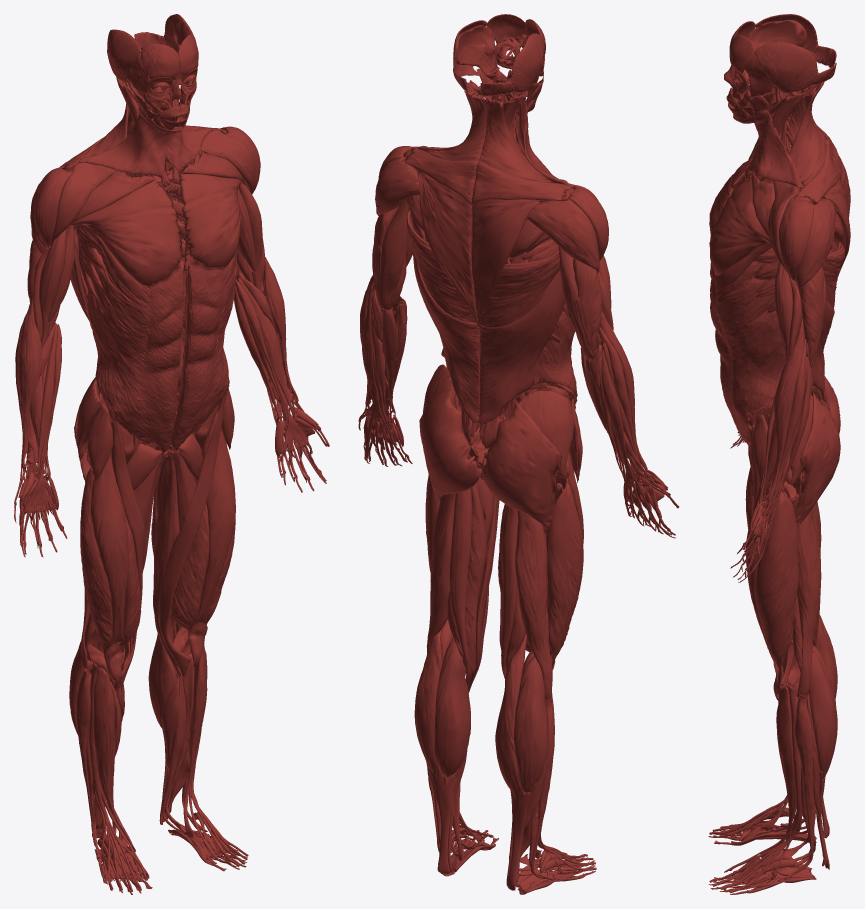
3 views of the same model, side by side, from view 1: azimuth 30°, elevation 25°; view 2: azimuth 150°, elevation 25°; view 3: azimuth 270°, elevation 25° (orthographic).
Parts seen in each view (by area): view 1: Muscle_External_Abdominal_Oblique_Right, Muscle_Sternocostal_Head_Of_Pectoralis_Major_Right, Muscle_External_Abdominal_Oblique_Left, Muscle_Sternocostal_Head_Of_Pectoralis_Major_Left, Muscle_Rectus_Femoris_Right, Muscle_Rectus_Femoris_Left, Muscle_Sartorius_Left, Muscle_Vastus_Lateralis_Right, Muscle_Platysma_Right, Muscle_Vastus_Medialis_Left, Muscle_Gracilis_Left, Muscle_Tibialis_Anterior_Right (+44 smaller); view 2: Muscle_Latissimus_Dorsi_Right, Muscle_Gluteus_Maximus_Right, Muscle_Latissimus_Dorsi_Left, Muscle_Vastus_Lateralis_Right, Muscle_Descending_Part_Of_Trapezius_Left, Muscle_Long_Head_Of_Biceps_Femoris_Right, Muscle_Gluteus_Maximus_Left, Muscle_Descending_Part_Of_Trapezius_Right, Muscle_Medial_Head_Of_Gastrocnemius_Left, Muscle_Lateral_Head_Of_Gastrocnemius_Right, Muscle_Scapular_Spinal_Part_Of_Deltoid_Right, Muscle_Semitendinosus_Left (+34 smaller); view 3: Muscle_External_Abdominal_Oblique_Left, Muscle_Vastus_Lateralis_Left, Muscle_Sternocostal_Head_Of_Pectoralis_Major_Left, Muscle_Gluteus_Maximus_Left, Muscle_Long_Head_Of_Biceps_Femoris_Left, Muscle_Temporoparietalis_Left, Muscle_Lateral_Head_Of_Gastrocnemius_Left, Muscle_Platysma_Left, Muscle_Brachioradialis_Left, Muscle_Acromial_Part_Of_Deltoid_Left, Muscle_Scapular_Spinal_Part_Of_Deltoid_Left, Muscle_Ascending_Part_Of_Trapezius_Left (+44 smaller).
Boxes of the visible parts, x1,y1,x2,y2 form: Muscle_External_Abdominal_Oblique_Right: (87, 251, 184, 443); Muscle_Sternocostal_Head_Of_Pectoralis_Major_Right: (70, 180, 182, 285); Muscle_External_Abdominal_Oblique_Left: (177, 258, 236, 440); Muscle_Sternocostal_Head_Of_Pectoralis_Major_Left: (179, 173, 241, 268); Muscle_Rectus_Femoris_Right: (90, 450, 128, 686); Muscle_Rectus_Femoris_Left: (188, 410, 235, 667); Muscle_Sartorius_Left: (159, 390, 227, 677); Muscle_Vastus_Lateralis_Right: (80, 467, 112, 678); Muscle_Platysma_Right: (78, 107, 178, 177); Muscle_Vastus_Medialis_Left: (171, 503, 209, 652); Muscle_Gracilis_Left: (153, 451, 180, 678); Muscle_Tibialis_Anterior_Right: (93, 667, 135, 852); Muscle_Latissimus_Dorsi_Right: (478, 250, 564, 424); Muscle_Gluteus_Maximus_Right: (481, 402, 562, 528); Muscle_Latissimus_Dorsi_Left: (407, 211, 480, 422); Muscle_Vastus_Lateralis_Right: (546, 477, 583, 667); Muscle_Descending_Part_Of_Trapezius_Left: (417, 170, 478, 326); Muscle_Long_Head_Of_Biceps_Femoris_Right: (515, 510, 552, 699); Muscle_Gluteus_Maximus_Left: (419, 387, 481, 501); Muscle_Descending_Part_Of_Trapezius_Right: (471, 199, 548, 327); Muscle_Medial_Head_Of_Gastrocnemius_Left: (434, 637, 470, 777); Muscle_Lateral_Head_Of_Gastrocnemius_Right: (513, 656, 547, 793); Muscle_Scapular_Spinal_Part_Of_Deltoid_Right: (527, 198, 599, 273); Muscle_Semitendinosus_Left: (449, 488, 472, 687); Muscle_External_Abdominal_Oblique_Left: (710, 261, 785, 441); Muscle_Vastus_Lateralis_Left: (755, 491, 798, 694); Muscle_Sternocostal_Head_Of_Pectoralis_Major_Left: (709, 177, 770, 275); Muscle_Gluteus_Maximus_Left: (793, 392, 840, 526); Muscle_Long_Head_Of_Biceps_Femoris_Left: (797, 508, 821, 697); Muscle_Temporoparietalis_Left: (754, 41, 818, 92); Muscle_Lateral_Head_Of_Gastrocnemius_Left: (809, 651, 837, 778); Muscle_Platysma_Left: (733, 109, 801, 188); Muscle_Brachioradialis_Left: (767, 317, 804, 503); Muscle_Acromial_Part_Of_Deltoid_Left: (778, 198, 813, 281); Muscle_Scapular_Spinal_Part_Of_Deltoid_Left: (795, 199, 835, 290); Muscle_Ascending_Part_Of_Trapezius_Left: (789, 82, 826, 185).
Bounding box in the file's own units: 0.6599 × 1.67 × 0.2584.
